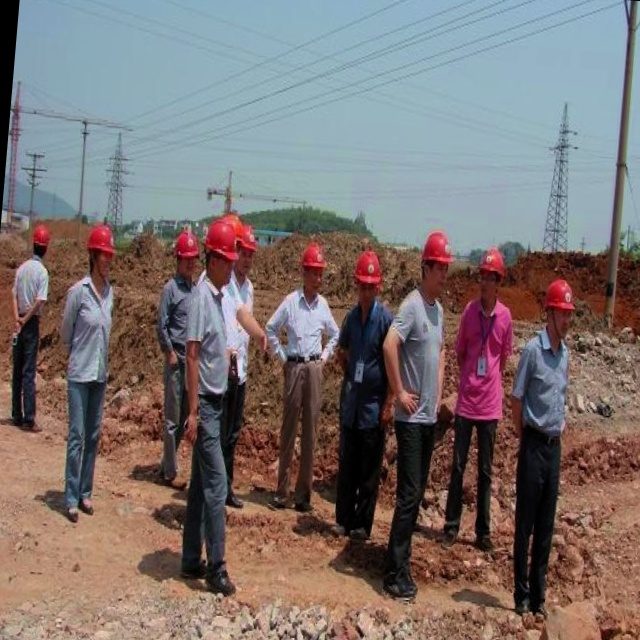Sin_Chaleco: (390, 289, 449, 424), (454, 293, 513, 420), (58, 272, 117, 385), (9, 257, 49, 340)
